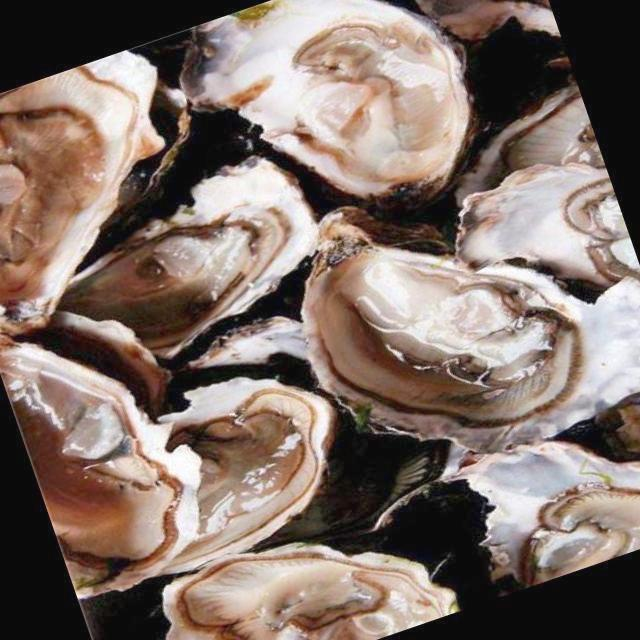Oyster-Open: (302, 212, 640, 454), (1, 307, 206, 598), (182, 0, 477, 199), (53, 155, 323, 358), (367, 437, 640, 611), (0, 47, 164, 326), (162, 376, 330, 574), (161, 538, 454, 640), (456, 119, 626, 286), (416, 0, 554, 45)
